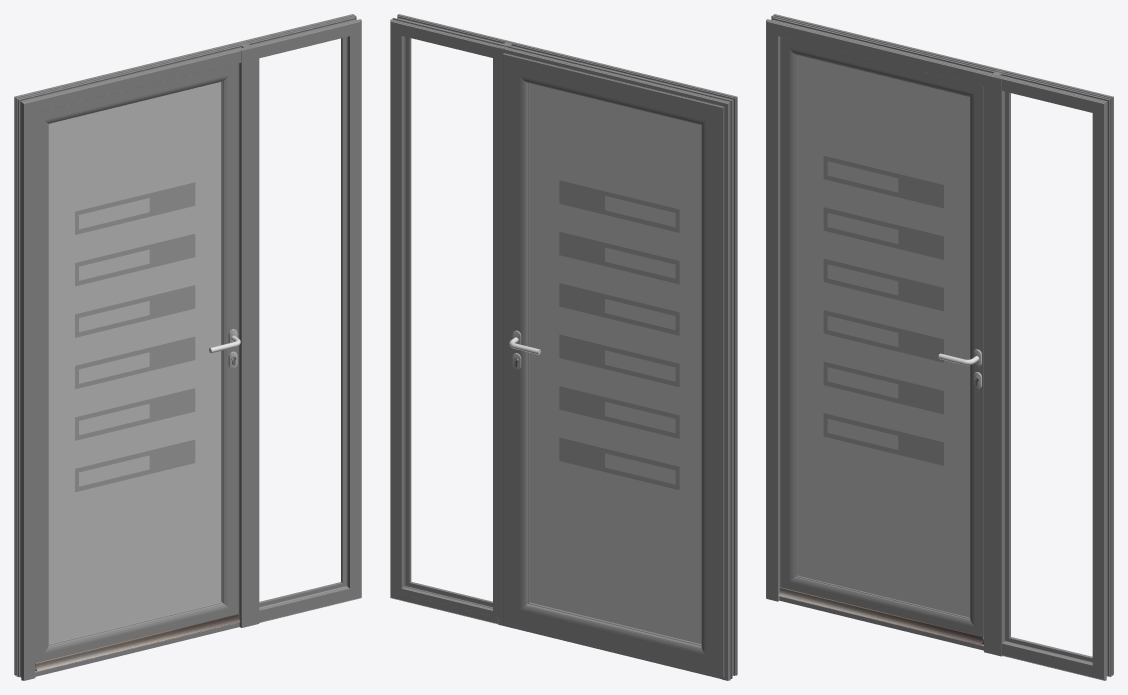
The picture shows the model from 3 angles, left to right: view 1: azimuth 30°, elevation 25°; view 2: azimuth 150°, elevation 25°; view 3: azimuth 330°, elevation 25°; orthographic projection.
Visible parts, largest first — view 1: fosco_31, aroFixo, aroMovel, montanteCentral, transparente_31, bite, borracha, escovas, rodaPe; view 2: fosco_31, aroMovel, aroFixo, transparente_31, bite, montanteCentral, borracha, rodaPe; view 3: fosco_31, aroFixo, aroMovel, montanteCentral, transparente_31, bite, escovas, borracha, rodaPe.
Part boxes in pixels (x1,y1,x2,y2): fosco_31: (48,82,221,643); aroFixo: (14,14,361,680); aroMovel: (35,63,238,663); montanteCentral: (238,42,259,627); transparente_31: (75,182,195,492); bite: (259,37,346,607); borracha: (259,37,345,606); escovas: (35,614,240,671); rodaPe: (35,622,239,676); fosco_31: (529,83,701,644); aroMovel: (503,53,724,677); aroFixo: (390,14,737,680); transparente_31: (559,180,679,489); bite: (396,29,498,617); montanteCentral: (498,40,518,626); borracha: (404,36,492,608); rodaPe: (505,624,721,679); fosco_31: (797,55,969,617); aroFixo: (766,14,1113,680); aroMovel: (780,37,983,638); montanteCentral: (984,70,1004,656); transparente_31: (823,156,943,465); bite: (1005,91,1092,661); escovas: (778,587,983,645); borracha: (1006,92,1092,660); rodaPe: (779,596,983,650).
Size of the model in its own units: 1320 by 2149 by 185.
10 materials, 4 textured.
